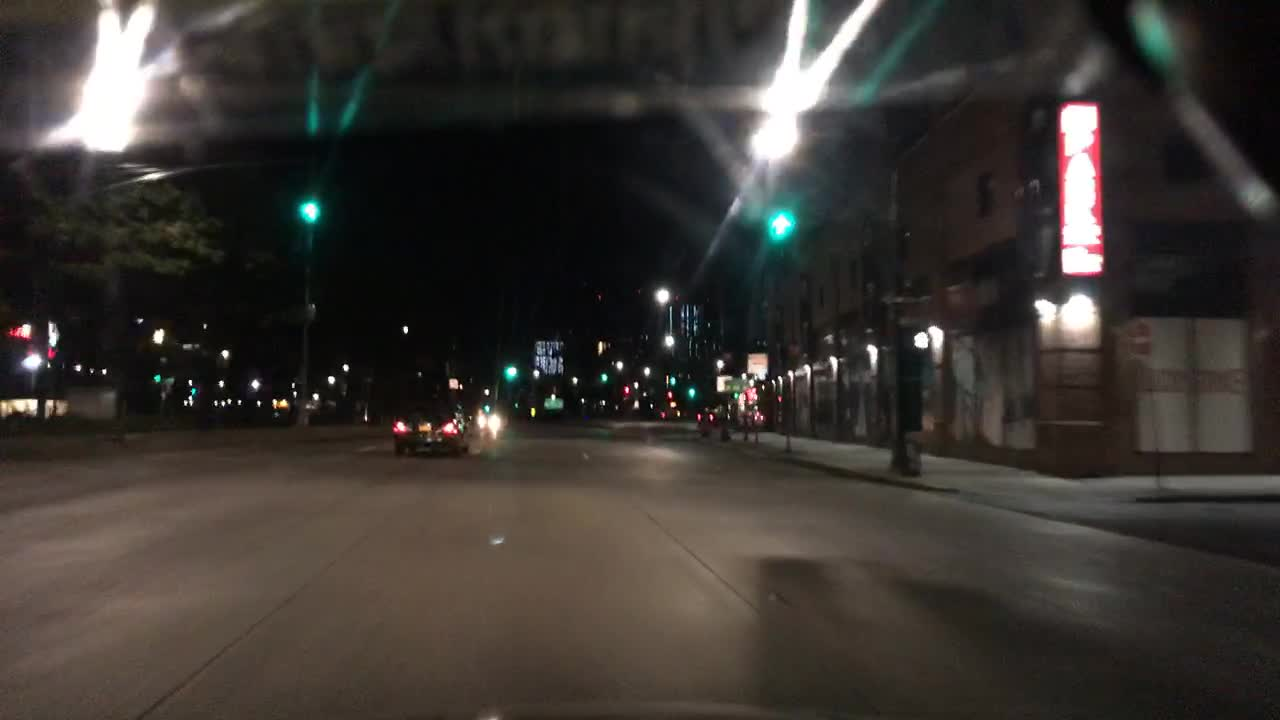car: (391, 395, 469, 461), (474, 410, 503, 432), (658, 403, 681, 418)
traffic light: (766, 191, 791, 243), (297, 172, 320, 224), (908, 327, 931, 353), (503, 361, 516, 388), (665, 368, 675, 388), (685, 381, 695, 400), (619, 380, 631, 395), (665, 390, 675, 403), (599, 364, 606, 381)
traffic sign: (876, 287, 919, 307), (541, 395, 563, 410)
